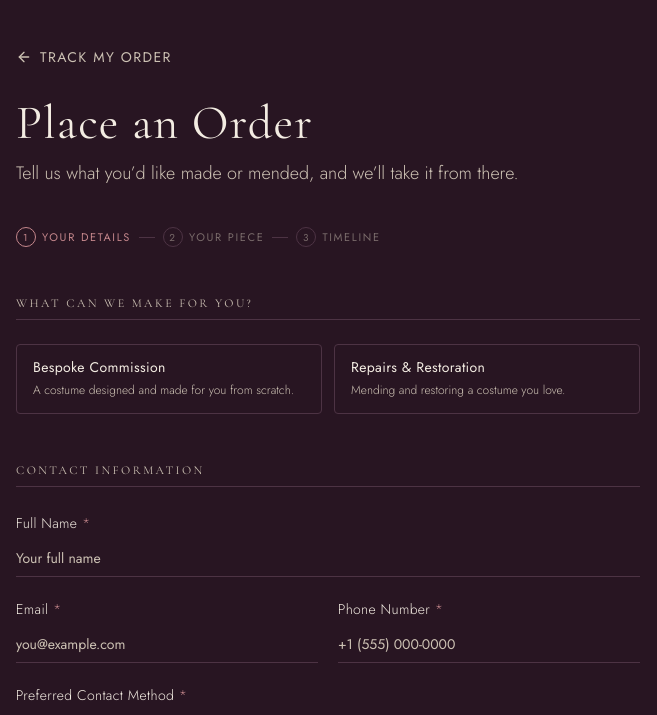
Test: OrderForm — commission capacity › asks what the piece is for and when, both as plain optional fields
Click the button with test id "service-option-bespoke".
click(169, 379)  # box [16,344,322,414]
(page scrolled)
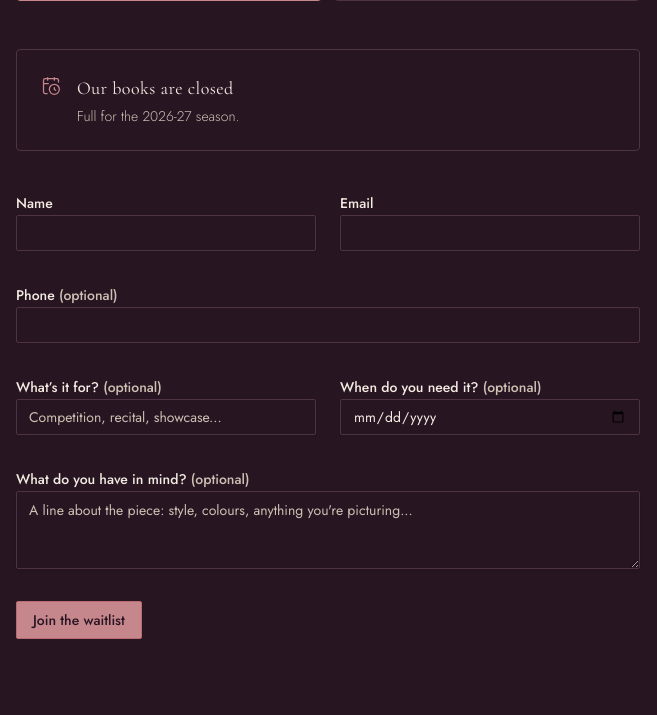
Expected: the field with test id "input-waitlist-event" is shown, [16,398,316,434]
Expected: the date field with test id "input-waitlist-needed-by" is shown, [340,398,640,434]
